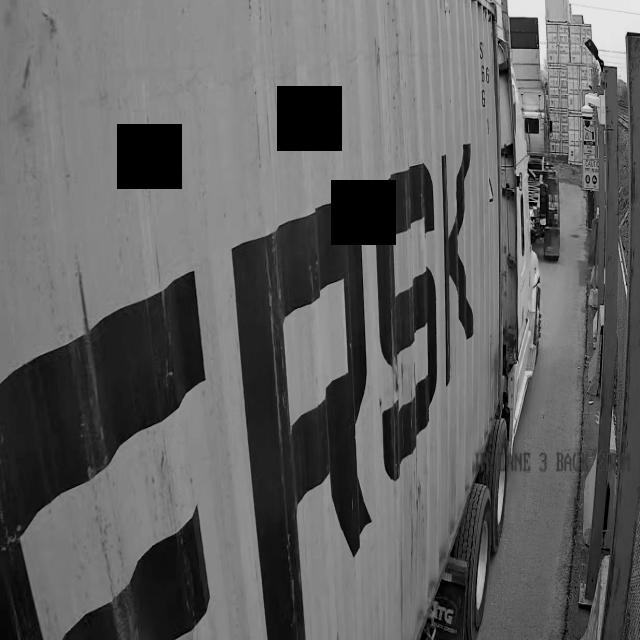container_company_logo: (335, 166, 424, 543), (425, 113, 532, 413)
driver: (572, 150, 594, 242)
truck_with_container: (0, 0, 552, 640)
